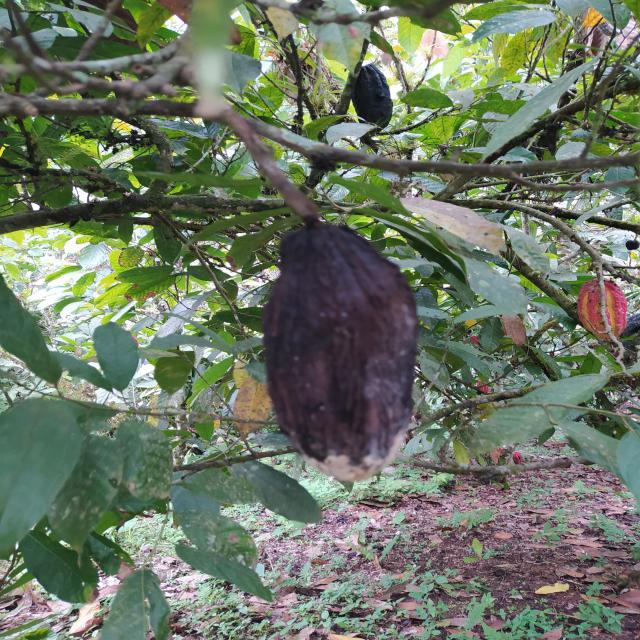Fitoftora: (351, 63, 393, 133)
Monilia: (262, 221, 422, 484)
Sana: (577, 276, 628, 342)
